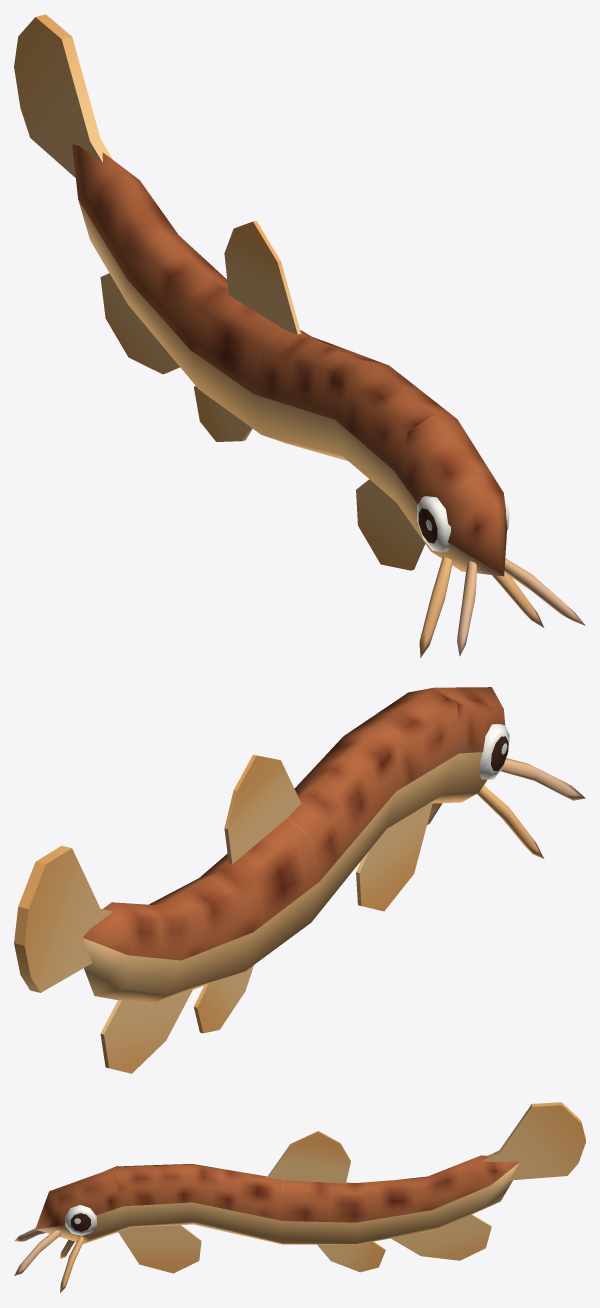
3 renders of one model, top to bottom at view 1: azimuth 30°, elevation 25°; view 2: azimuth 150°, elevation 25°; view 3: azimuth 270°, elevation 25°, orthographic. The views are drawn at different scales.
Visible parts, largest first — view 1: Fish_Loach; view 2: Fish_Loach; view 3: Fish_Loach.
Boxes of the visible parts, x1,y1,x2,y2 form: Fish_Loach: [14, 14, 585, 658]; Fish_Loach: [14, 687, 585, 1073]; Fish_Loach: [14, 1102, 585, 1292].
Bounding box in the file's own units: 4.35 × 10.02 × 30.05.
